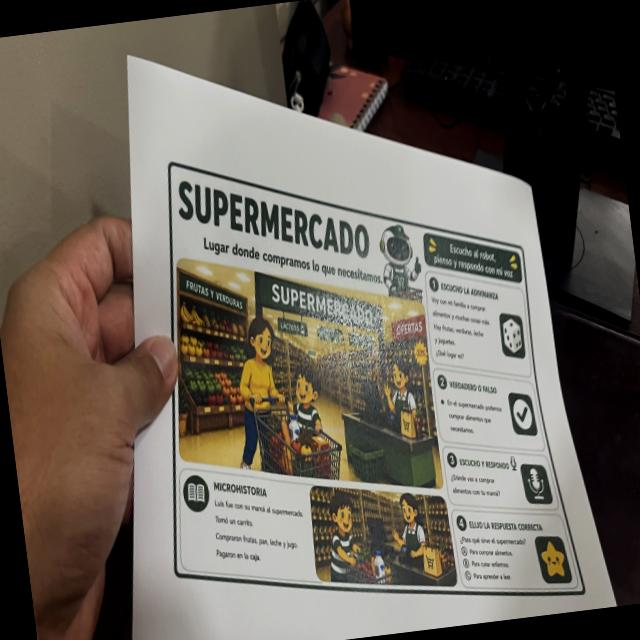supermercado: (119, 111, 589, 640)
